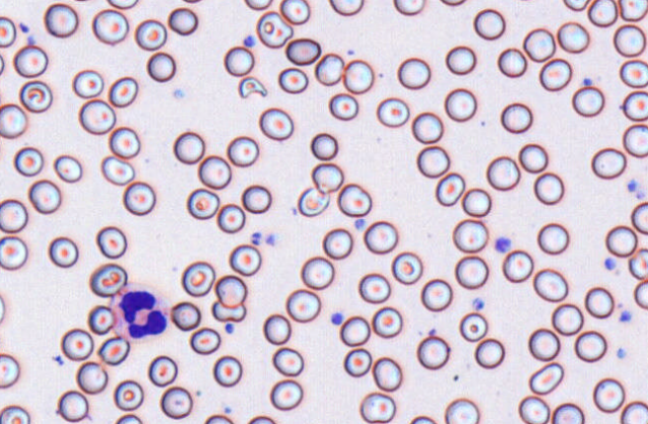GRAN: (110, 283, 172, 344)
PLT: (494, 237, 512, 254), (267, 232, 283, 247), (242, 33, 256, 48), (354, 216, 368, 231), (619, 308, 633, 323), (223, 320, 236, 335), (330, 310, 343, 325), (605, 256, 617, 271), (473, 297, 486, 310), (251, 230, 261, 246), (25, 34, 38, 46), (628, 178, 640, 191), (617, 347, 628, 359), (17, 22, 30, 32), (581, 78, 592, 88)
RBC: (256, 10, 293, 48), (78, 98, 116, 134), (92, 8, 128, 44), (89, 263, 127, 297), (528, 361, 564, 395), (285, 288, 321, 322), (181, 260, 215, 296), (452, 218, 488, 252), (197, 154, 231, 189), (486, 155, 520, 190), (43, 3, 78, 37), (533, 268, 568, 302), (363, 220, 398, 254), (592, 377, 625, 413), (359, 391, 396, 423), (300, 255, 334, 289), (416, 335, 450, 369), (337, 183, 371, 217), (454, 255, 488, 289), (13, 44, 48, 77), (214, 274, 247, 308), (159, 385, 192, 419), (416, 145, 450, 178), (28, 179, 61, 213), (539, 57, 572, 91), (259, 107, 293, 140), (523, 27, 555, 62), (591, 147, 626, 179), (60, 328, 93, 361), (228, 243, 261, 276), (613, 24, 646, 57), (528, 327, 560, 361), (444, 87, 476, 121), (123, 181, 155, 215), (342, 58, 373, 93), (371, 356, 402, 391), (76, 361, 108, 394), (56, 389, 88, 422), (134, 18, 167, 50), (571, 85, 604, 117), (226, 135, 259, 167), (397, 57, 430, 89), (420, 278, 452, 311), (574, 330, 607, 362), (19, 80, 52, 112), (269, 379, 303, 410), (605, 225, 637, 257), (557, 21, 589, 53), (473, 8, 505, 40), (551, 303, 583, 335), (108, 126, 140, 158), (411, 111, 443, 143), (537, 222, 569, 254), (186, 188, 219, 219), (502, 249, 533, 282), (173, 131, 204, 164), (96, 225, 127, 258), (391, 251, 422, 284), (435, 172, 465, 206), (500, 102, 532, 133), (533, 172, 564, 204), (371, 306, 402, 338), (358, 272, 390, 303), (101, 155, 134, 185), (314, 52, 344, 85), (376, 97, 409, 127), (285, 37, 320, 65), (0, 102, 27, 138), (223, 45, 254, 76), (339, 315, 370, 346), (311, 162, 343, 192), (147, 355, 177, 387), (272, 346, 304, 376), (212, 355, 242, 387), (48, 236, 78, 268), (322, 227, 352, 259), (584, 286, 614, 318), (0, 235, 27, 270), (0, 198, 27, 233), (113, 379, 143, 410), (474, 337, 504, 368), (262, 313, 291, 345), (444, 397, 479, 423), (518, 143, 548, 173), (497, 47, 527, 77), (13, 146, 43, 176), (98, 336, 129, 365), (146, 51, 175, 82), (458, 311, 487, 342), (445, 45, 476, 74), (108, 76, 137, 107), (72, 69, 103, 98), (518, 395, 550, 423), (622, 123, 648, 157), (170, 301, 200, 330), (216, 203, 245, 233), (343, 347, 372, 377), (461, 187, 491, 216), (241, 184, 271, 213), (167, 7, 198, 35), (328, 92, 358, 120), (87, 304, 114, 335), (189, 327, 220, 354), (619, 59, 647, 88), (53, 154, 82, 182), (278, 66, 308, 93), (587, 0, 617, 27), (622, 90, 648, 121), (310, 132, 338, 160), (279, 0, 310, 24), (551, 402, 584, 423), (0, 353, 19, 388), (620, 400, 648, 423), (628, 248, 648, 279), (619, 0, 647, 21), (0, 404, 30, 423), (631, 201, 648, 234), (328, 0, 363, 15), (0, 16, 16, 47), (633, 278, 648, 309), (393, 0, 424, 15), (106, 0, 138, 9), (563, 0, 589, 11), (114, 413, 142, 423), (244, 0, 272, 10), (203, 414, 233, 423), (246, 414, 276, 423), (408, 415, 437, 423), (439, 0, 466, 6), (0, 294, 5, 323), (0, 52, 4, 76), (0, 134, 3, 163), (180, 0, 204, 3), (66, 0, 98, 1), (512, 0, 539, 1)
Schistocyte: (298, 187, 331, 216), (211, 302, 248, 322), (239, 77, 269, 98)
